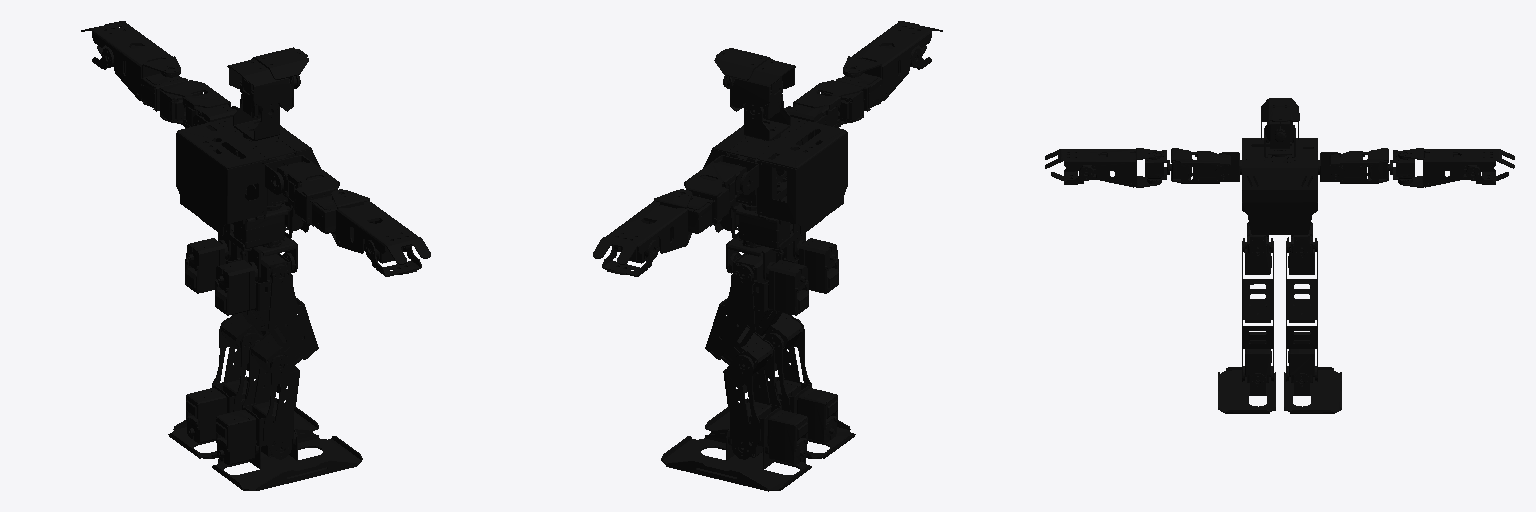
--- Render facts (derived) ---
Views: 3 orthographic renders of the robot side by side, from view 1: azimuth 30°, elevation 25°; view 2: azimuth 150°, elevation 25°; view 3: azimuth 270°, elevation 25°.
Robot: ainex — 28 links, 27 joints (24 revolute, 3 fixed); root link base_link; default pose: every joint at zero.
Links seen in each view (by area): view 1: body_link, r_ank_roll_link, r_hip_pitch_link, r_el_yaw_link, head_tilt_link, r_knee_link, l_el_yaw_link, r_hip_roll_link, r_ank_pitch_link, l_sho_roll_link, l_ank_pitch_link, r_sho_roll_link (+10 smaller); view 2: body_link, l_ank_roll_link, l_hip_pitch_link, l_el_yaw_link, head_tilt_link, l_knee_link, r_el_yaw_link, l_hip_roll_link, l_ank_pitch_link, r_sho_roll_link, r_ank_pitch_link, l_sho_roll_link (+10 smaller); view 3: body_link, r_el_yaw_link, l_el_yaw_link, r_ank_roll_link, l_ank_roll_link, l_sho_roll_link, r_sho_roll_link, head_tilt_link, r_hip_pitch_link, l_hip_pitch_link, l_ank_pitch_link, r_ank_pitch_link (+8 smaller).
Boxes of the visible links, <box> form: body_link: <box>176,117,320,251</box>; r_ank_roll_link: <box>212,428,362,490</box>; r_hip_pitch_link: <box>247,264,318,373</box>; r_el_yaw_link: <box>331,189,430,264</box>; head_tilt_link: <box>227,47,308,118</box>; r_knee_link: <box>242,340,299,459</box>; l_el_yaw_link: <box>81,21,180,106</box>; r_hip_roll_link: <box>215,253,292,315</box>; r_ank_pitch_link: <box>216,398,293,464</box>; l_sho_roll_link: <box>160,80,235,127</box>; l_ank_pitch_link: <box>186,376,248,443</box>; r_sho_roll_link: <box>277,161,339,223</box>; body_link: <box>703,117,847,251</box>; l_ank_roll_link: <box>661,428,811,491</box>; l_hip_pitch_link: <box>705,264,776,373</box>; l_el_yaw_link: <box>593,189,692,264</box>; head_tilt_link: <box>714,48,795,118</box>; l_knee_link: <box>723,340,781,459</box>; r_el_yaw_link: <box>843,21,942,106</box>; l_hip_roll_link: <box>731,253,808,315</box>; l_ank_pitch_link: <box>730,398,807,465</box>; r_sho_roll_link: <box>788,80,863,127</box>; r_ank_pitch_link: <box>775,377,837,443</box>; l_sho_roll_link: <box>684,161,746,223</box>; body_link: <box>1242,138,1317,234</box>; r_el_yaw_link: <box>1045,148,1161,187</box>; l_el_yaw_link: <box>1398,148,1514,187</box>; r_ank_roll_link: <box>1218,367,1275,413</box>; l_ank_roll_link: <box>1284,367,1341,413</box>; l_sho_roll_link: <box>1329,148,1388,183</box>; r_sho_roll_link: <box>1171,148,1230,183</box>; head_tilt_link: <box>1261,98,1299,148</box>; r_hip_pitch_link: <box>1242,238,1273,322</box>; l_hip_pitch_link: <box>1286,237,1317,322</box>; l_ank_pitch_link: <box>1288,332,1314,382</box>; r_ank_pitch_link: <box>1245,332,1271,382</box>.
Bounding box of the posed robot: 0.1394 × 0.6195 × 0.4144 m (x, y, z).
Meshes: 25 distinct files referenced, 25 mesh visuals loaded (25 binary STL).

URDF robot description (ainex):
<?xml version="1.0" ?>
<!-- =================================================================================== -->
<!-- |    This document was autogenerated by xacro from src/ainex_simulations/ainex_description/urdf/ainex.urdf.xacro | -->
<!-- |    EDITING THIS FILE BY HAND IS NOT RECOMMENDED                                 | -->
<!-- =================================================================================== -->
<robot name="ainex">
  <material name="black">
    <color rgba="0.1 0.1 0.1 1.0"/>
  </material>
  <material name="blue">
    <color rgba="0.0 0.0 0.8 1.0"/>
  </material>
  <material name="green">
    <color rgba="0.4 0.9 0.4 1.0"/>
  </material>
  <material name="gray">
    <color rgba="0.7 0.7 0.7 1.0"/>
  </material>
  <material name="darkgray">
    <color rgba="0.3 0.3 0.3 1.0"/>
  </material>
  <material name="red">
    <color rgba="0.8 0.0 0.0 1.0"/>
  </material>
  <material name="white">
    <color rgba="1.0 1.0 1.0 1.0"/>
  </material>
  <material name="yellow">
    <color rgba="0.8 0.8 0.0 1.0"/>
  </material>
  <transmission name="l_hip_roll_tran">
    <type>transmission_interface/SimpleTransmission</type>
    <joint name="l_hip_roll">
      <hardwareInterface>hardware_interface/EffortJointInterface</hardwareInterface>
    </joint>
    <actuator name="l_hip_roll_motor">
      <hardwareInterface>hardware_interface/EffortJointInterface</hardwareInterface>
      <mechanicalReduction>1</mechanicalReduction>
    </actuator>
  </transmission>
  <transmission name="l_hip_pitch_tran">
    <type>transmission_interface/SimpleTransmission</type>
    <joint name="l_hip_pitch">
      <hardwareInterface>hardware_interface/EffortJointInterface</hardwareInterface>
    </joint>
    <actuator name="l_hip_pitch_motor">
      <hardwareInterface>hardware_interface/EffortJointInterface</hardwareInterface>
      <mechanicalReduction>1</mechanicalReduction>
    </actuator>
  </transmission>
  <transmission name="r_hip_roll_tran">
    <type>transmission_interface/SimpleTransmission</type>
    <joint name="r_hip_roll">
      <hardwareInterface>hardware_interface/EffortJointInterface</hardwareInterface>
    </joint>
    <actuator name="r_hip_roll_motor">
      <hardwareInterface>hardware_interface/EffortJointInterface</hardwareInterface>
      <mechanicalReduction>1</mechanicalReduction>
    </actuator>
  </transmission>
  <transmission name="r_hip_pitch_tran">
    <type>transmission_interface/SimpleTransmission</type>
    <joint name="r_hip_pitch">
      <hardwareInterface>hardware_interface/EffortJointInterface</hardwareInterface>
    </joint>
    <actuator name="r_hip_pitch_motor">
      <hardwareInterface>hardware_interface/EffortJointInterface</hardwareInterface>
      <mechanicalReduction>1</mechanicalReduction>
    </actuator>
  </transmission>
  <transmission name="l_hip_yaw_tran">
    <type>transmission_interface/SimpleTransmission</type>
    <joint name="l_hip_yaw">
      <hardwareInterface>hardware_interface/EffortJointInterface</hardwareInterface>
    </joint>
    <actuator name="l_hip_yaw_motor">
      <hardwareInterface>hardware_interface/EffortJointInterface</hardwareInterface>
      <mechanicalReduction>1</mechanicalReduction>
    </actuator>
  </transmission>
  <transmission name="r_hip_yaw_tran">
    <type>transmission_interface/SimpleTransmission</type>
    <joint name="r_hip_yaw">
      <hardwareInterface>hardware_interface/EffortJointInterface</hardwareInterface>
    </joint>
    <actuator name="r_hip_yaw_motor">
      <hardwareInterface>hardware_interface/EffortJointInterface</hardwareInterface>
      <mechanicalReduction>1</mechanicalReduction>
    </actuator>
  </transmission>
  <transmission name="l_knee_tran">
    <type>transmission_interface/SimpleTransmission</type>
    <joint name="l_knee">
      <hardwareInterface>hardware_interface/EffortJointInterface</hardwareInterface>
    </joint>
    <actuator name="l_knee_motor">
      <hardwareInterface>hardware_interface/EffortJointInterface</hardwareInterface>
      <mechanicalReduction>1</mechanicalReduction>
    </actuator>
  </transmission>
  <transmission name="l_ank_pitch_tran">
    <type>transmission_interface/SimpleTransmission</type>
    <joint name="l_ank_pitch">
      <hardwareInterface>hardware_interface/EffortJointInterface</hardwareInterface>
    </joint>
    <actuator name="l_ank_pitch_motor">
      <hardwareInterface>hardware_interface/EffortJointInterface</hardwareInterface>
      <mechanicalReduction>1</mechanicalReduction>
    </actuator>
  </transmission>
  <transmission name="l_ank_roll_tran">
    <type>transmission_interface/SimpleTransmission</type>
    <joint name="l_ank_roll">
      <hardwareInterface>hardware_interface/EffortJointInterface</hardwareInterface>
    </joint>
    <actuator name="l_ank_roll_motor">
      <hardwareInterface>hardware_interface/EffortJointInterface</hardwareInterface>
      <mechanicalReduction>1</mechanicalReduction>
    </actuator>
  </transmission>
  <transmission name="r_knee_tran">
    <type>transmission_interface/SimpleTransmission</type>
    <joint name="r_knee">
      <hardwareInterface>hardware_interface/EffortJointInterface</hardwareInterface>
    </joint>
    <actuator name="r_knee_motor">
      <hardwareInterface>hardware_interface/EffortJointInterface</hardwareInterface>
      <mechanicalReduction>1</mechanicalReduction>
    </actuator>
  </transmission>
  <transmission name="r_ank_pitch_tran">
    <type>transmission_interface/SimpleTransmission</type>
    <joint name="r_ank_pitch">
      <hardwareInterface>hardware_interface/EffortJointInterface</hardwareInterface>
    </joint>
    <actuator name="r_ank_pitch_motor">
      <hardwareInterface>hardware_interface/EffortJointInterface</hardwareInterface>
      <mechanicalReduction>1</mechanicalReduction>
    </actuator>
  </transmission>
  <transmission name="r_ank_roll_tran">
    <type>transmission_interface/SimpleTransmission</type>
    <joint name="r_ank_roll">
      <hardwareInterface>hardware_interface/EffortJointInterface</hardwareInterface>
    </joint>
    <actuator name="r_ank_roll_motor">
      <hardwareInterface>hardware_interface/EffortJointInterface</hardwareInterface>
      <mechanicalReduction>1</mechanicalReduction>
    </actuator>
  </transmission>
  <transmission name="l_sho_roll_tran">
    <type>transmission_interface/SimpleTransmission</type>
    <joint name="l_sho_roll">
      <hardwareInterface>hardware_interface/EffortJointInterface</hardwareInterface>
    </joint>
    <actuator name="l_sho_roll_motor">
      <hardwareInterface>hardware_interface/EffortJointInterface</hardwareInterface>
      <mechanicalReduction>1</mechanicalReduction>
    </actuator>
  </transmission>
  <transmission name="l_sho_pitch_tran">
    <type>transmission_interface/SimpleTransmission</type>
    <joint name="l_sho_pitch">
      <hardwareInterface>hardware_interface/EffortJointInterface</hardwareInterface>
    </joint>
    <actuator name="l_sho_pitch_motor">
      <hardwareInterface>hardware_interface/EffortJointInterface</hardwareInterface>
      <mechanicalReduction>1</mechanicalReduction>
    </actuator>
  </transmission>
  <transmission name="r_sho_roll_tran">
    <type>transmission_interface/SimpleTransmission</type>
    <joint name="r_sho_roll">
      <hardwareInterface>hardware_interface/EffortJointInterface</hardwareInterface>
    </joint>
    <actuator name="r_sho_roll_motor">
      <hardwareInterface>hardware_interface/EffortJointInterface</hardwareInterface>
      <mechanicalReduction>1</mechanicalReduction>
    </actuator>
  </transmission>
  <transmission name="r_sho_pitch_tran">
    <type>transmission_interface/SimpleTransmission</type>
    <joint name="r_sho_pitch">
      <hardwareInterface>hardware_interface/EffortJointInterface</hardwareInterface>
    </joint>
    <actuator name="r_sho_pitch_motor">
      <hardwareInterface>hardware_interface/EffortJointInterface</hardwareInterface>
      <mechanicalReduction>1</mechanicalReduction>
    </actuator>
  </transmission>
  <transmission name="l_el_yaw_tran">
    <type>transmission_interface/SimpleTransmission</type>
    <joint name="l_el_yaw">
      <hardwareInterface>hardware_interface/EffortJointInterface</hardwareInterface>
    </joint>
    <actuator name="l_el_yaw_motor">
      <hardwareInterface>hardware_interface/EffortJointInterface</hardwareInterface>
      <mechanicalReduction>1</mechanicalReduction>
    </actuator>
  </transmission>
  <transmission name="r_el_yaw_tran">
    <type>transmission_interface/SimpleTransmission</type>
    <joint name="r_el_yaw">
      <hardwareInterface>hardware_interface/EffortJointInterface</hardwareInterface>
    </joint>
    <actuator name="r_el_yaw_motor">
      <hardwareInterface>hardware_interface/EffortJointInterface</hardwareInterface>
      <mechanicalReduction>1</mechanicalReduction>
    </actuator>
  </transmission>
  <transmission name="l_el_pitch_tran">
    <type>transmission_interface/SimpleTransmission</type>
    <joint name="l_el_pitch">
      <hardwareInterface>hardware_interface/EffortJointInterface</hardwareInterface>
    </joint>
    <actuator name="l_el_pitch_motor">
      <hardwareInterface>hardware_interface/EffortJointInterface</hardwareInterface>
      <mechanicalReduction>1</mechanicalReduction>
    </actuator>
  </transmission>
  <transmission name="l_gripper_tran">
    <type>transmission_interface/SimpleTransmission</type>
    <joint name="l_gripper">
      <hardwareInterface>hardware_interface/EffortJointInterface</hardwareInterface>
    </joint>
    <actuator name="l_gripper_motor">
      <hardwareInterface>hardware_interface/EffortJointInterface</hardwareInterface>
      <mechanicalReduction>1</mechanicalReduction>
    </actuator>
  </transmission>
  <transmission name="r_el_pitch_tran">
    <type>transmission_interface/SimpleTransmission</type>
    <joint name="r_el_pitch">
      <hardwareInterface>hardware_interface/EffortJointInterface</hardwareInterface>
    </joint>
    <actuator name="r_el_pitch_motor">
      <hardwareInterface>hardware_interface/EffortJointInterface</hardwareInterface>
      <mechanicalReduction>1</mechanicalReduction>
    </actuator>
  </transmission>
  <transmission name="r_gripper_tran">
    <type>transmission_interface/SimpleTransmission</type>
    <joint name="r_gripper">
      <hardwareInterface>hardware_interface/EffortJointInterface</hardwareInterface>
    </joint>
    <actuator name="r_gripper_motor">
      <hardwareInterface>hardware_interface/EffortJointInterface</hardwareInterface>
      <mechanicalReduction>1</mechanicalReduction>
    </actuator>
  </transmission>
  <transmission name="head_pan_tran">
    <type>transmission_interface/SimpleTransmission</type>
    <joint name="head_pan">
      <hardwareInterface>hardware_interface/EffortJointInterface</hardwareInterface>
    </joint>
    <actuator name="head_pan_motor">
      <hardwareInterface>hardware_interface/EffortJointInterface</hardwareInterface>
      <mechanicalReduction>1</mechanicalReduction>
    </actuator>
  </transmission>
  <transmission name="head_tilt_tran">
    <type>transmission_interface/SimpleTransmission</type>
    <joint name="head_tilt">
      <hardwareInterface>hardware_interface/EffortJointInterface</hardwareInterface>
    </joint>
    <actuator name="head_tilt_motor">
      <hardwareInterface>hardware_interface/EffortJointInterface</hardwareInterface>
      <mechanicalReduction>1</mechanicalReduction>
    </actuator>
  </transmission>
  <link name="base_link"/>
  <joint name="base_link_to_body" type="fixed">
    <parent link="base_link"/>
    <child link="body_link"/>
  </joint>
  <link name="body_link">
    <inertial>
      <origin rpy="0 0 0" xyz="0.00394313682998006 -7.92910841109997E-05 0.0504544952747596"/>
      <mass value="0.743"/>
      <inertia ixx="0.00121619" ixy="0.00000248" ixz="-0.00005348" iyy="0.00104402" iyz="-0.00000200" izz="0.00108564"/>
    </inertial>
    <visual>
      <origin rpy="0 0 0" xyz="0 0 0"/>
      <geometry>
        <mesh filename="ainex_description/meshes/body_link.STL"/>
      </geometry>
      <material name="black"/>
    </visual>
    <collision>
      <origin rpy="0 0 0" xyz="0 0 0"/>
      <geometry>
        <mesh filename="ainex_description/meshes/body_link.STL"/>
      </geometry>
    </collision>
  </link>
  <link name="r_hip_yaw_link">
    <inertial>
      <origin rpy="0 0 0" xyz="-3.08089321559763E-05 0.0012572746209485 -0.00137106654438882"/>
      <mass value="0.032"/>
      <inertia ixx="0.00001756" ixy="-0.00000028" ixz="-0.00000033" iyy="0.00002270" iyz="0.00000092" izz="0.00000905"/>
    </inertial>
    <visual>
      <origin rpy="0 0 0" xyz="0 0 0"/>
      <geometry>
        <mesh filename="ainex_description/meshes/r_hip_yaw_link.STL"/>
      </geometry>
      <material name="black"/>
    </visual>
    <collision>
      <origin rpy="0 0 0" xyz="0 0 0"/>
      <geometry>
        <mesh filename="ainex_description/meshes/r_hip_yaw_link.STL"/>
      </geometry>
    </collision>
  </link>
  <joint name="r_hip_yaw" type="revolute">
    <origin rpy="0 0 0" xyz="0 -0.029 0"/>
    <parent link="body_link"/>
    <child link="r_hip_yaw_link"/>
    <axis xyz="0 0 -1"/>
    <limit effort="6" lower="-2.09" upper="2.09" velocity="100"/>
    <dynamics damping="0.02" friction="0.0"/>
  </joint>
  <link name="r_hip_roll_link">
    <inertial>
      <origin rpy="0 0 0" xyz="0.00136240189123019 -0.000566876191787073 -0.0134186815024998"/>
      <mass value="0.120"/>
      <inertia ixx="0.00002918" ixy="-0.00000090" ixz="-0.00000045" iyy="0.00007310" iyz="0.00000000" izz="0.00006050"/>
    </inertial>
    <visual>
      <origin rpy="0 0 0" xyz="0 0 0"/>
      <geometry>
        <mesh filename="ainex_description/meshes/r_hip_roll_link.STL"/>
      </geometry>
      <material name="black"/>
    </visual>
    <collision>
      <origin rpy="0 0 0" xyz="0 0 0"/>
      <geometry>
        <mesh filename="ainex_description/meshes/r_hip_roll_link.STL"/>
      </geometry>
    </collision>
  </link>
  <joint name="r_hip_roll" type="revolute">
    <origin rpy="0 0 0" xyz="-0.01955 0 -0.0255"/>
    <parent link="r_hip_yaw_link"/>
    <child link="r_hip_roll_link"/>
    <axis xyz="-1 0 0"/>
    <limit effort="6" lower="-2.09" upper="2.09" velocity="100"/>
    <dynamics damping="0.02" friction="0.0"/>
  </joint>
  <link name="r_hip_pitch_link">
    <inertial>
      <origin rpy="0 0 0" xyz="0.0135944229510165 0.0193812364621979 -0.0727053786154678"/>
      <mass value="0.1065"/>
      <inertia ixx="0.00011009" ixy="0.00000025" ixz="-0.00000822" iyy="0.00011292" iyz="0.00000058" izz="0.00004163"/>
    </inertial>
    <visual>
      <origin rpy="0 0 0" xyz="0 0 0"/>
      <geometry>
        <mesh filename="ainex_description/meshes/r_hip_pitch_link.STL"/>
      </geometry>
      <material name="black"/>
    </visual>
    <collision>
      <origin rpy="0 0 0" xyz="0 0 0"/>
      <geometry>
        <mesh filename="ainex_description/meshes/r_hip_pitch_link.STL"/>
      </geometry>
    </collision>
  </link>
  <joint name="r_hip_pitch" type="revolute">
    <origin rpy="0 0 0" xyz="0.0190366011774447 -0.0200000000007891 0"/>
    <parent link="r_hip_roll_link"/>
    <child link="r_hip_pitch_link"/>
    <axis xyz="0 -1 0"/>
    <limit effort="6" lower="-2.09" upper="2.09" velocity="100"/>
    <dynamics damping="0.02" friction="0.0"/>
  </joint>
  <link name="r_knee_link">
    <inertial>
      <origin rpy="0 0 0" xyz="0.00334266052421815 0.0196473707822286 -0.0425048961212657"/>
      <mass value="0.045"/>
      <inertia ixx="0.00006733" ixy="0.00000005" ixz="0.00000285" iyy="0.00005500" iyz="0.00000000" izz="0.00002073"/>
    </inertial>
    <visual>
      <origin rpy="0 0 0" xyz="0 0 0"/>
      <geometry>
        <mesh filename="ainex_description/meshes/r_knee_link.STL"/>
      </geometry>
      <material name="black"/>
    </visual>
    <collision>
      <origin rpy="0 0 0" xyz="0 0 0"/>
      <geometry>
        <mesh filename="ainex_description/meshes/r_knee_link.STL"/>
      </geometry>
    </collision>
  </link>
  <joint name="r_knee" type="revolute">
    <origin rpy="0 0 0" xyz="-0.000372039419212393 4.99999999942422E-05 -0.0968862318156413"/>
    <parent link="r_hip_pitch_link"/>
    <child link="r_knee_link"/>
    <axis xyz="0 -1 0"/>
    <limit effort="6" lower="-2.09" upper="2.09" velocity="100"/>
    <dynamics damping="0.02" friction="0.0"/>
  </joint>
  <link name="r_ank_pitch_link">
    <inertial>
      <origin rpy="0 0 0" xyz="-0.0175439564530261 0.0195631980917168 0.0134182145609028"/>
      <mass value="0.120"/>
      <inertia ixx="0.00002920" ixy="-0.00000122" ixz="0.00000047" iyy="0.00007365" iyz="0.00000002" izz="0.00006107"/>
    </inertial>
    <visual>
      <origin rpy="0 0 0" xyz="0 0 0"/>
      <geometry>
        <mesh filename="ainex_description/meshes/r_ank_pitch_link.STL"/>
      </geometry>
      <material name="black"/>
    </visual>
    <collision>
      <origin rpy="0 0 0" xyz="0 0 0"/>
      <geometry>
        <mesh filename="ainex_description/meshes/r_ank_pitch_link.STL"/>
      </geometry>
    </collision>
  </link>
  <joint name="r_ank_pitch" type="revolute">
    <origin rpy="0 0 0" xyz="0.0010369887037887 0 -0.0890765640232094"/>
    <parent link="r_knee_link"/>
    <child link="r_ank_pitch_link"/>
    <axis xyz="0 1 0"/>
    <limit effort="6" lower="-2.09" upper="2.09" velocity="100"/>
    <dynamics damping="0.02" friction="0.0"/>
  </joint>
  <link name="r_ank_roll_link">
    <inertial>
      <origin rpy="0 0 0" xyz="0.0285084749683582 -0.0128728703698743 -0.0176710108439943"/>
      <mass value="0.0675"/>
      <inertia ixx="0.00004217" ixy="-0.00000108" ixz="-0.00000226" iyy="0.00009246" iyz="0.00000304" izz="0.00012567"/>
    </inertial>
    <visual>
      <origin rpy="0 0 0" xyz="0 0 0"/>
      <geometry>
        <mesh filename="ainex_description/meshes/r_ank_roll_link.STL"/>
      </geometry>
      <material name="black"/>
    </visual>
    <collision>
      <origin rpy="0 0 0" xyz="0 0 0"/>
      <geometry>
        <mesh filename="ainex_description/meshes/r_ank_roll_link.STL"/>
      </geometry>
    </collision>
  </link>
  <joint name="r_ank_roll" type="revolute">
    <origin rpy="0 0 0" xyz="-0.0190366011761311 0.0199999999998644 0"/>
    <parent link="r_ank_pitch_link"/>
    <child link="r_ank_roll_link"/>
    <axis xyz="1 0 0"/>
    <limit effort="6" lower="-2.09" upper="2.09" velocity="100"/>
    <dynamics damping="0.02" friction="0.0"/>
  </joint>
  <link name="l_hip_yaw_link">
    <inertial>
      <origin rpy="0 0 0" xyz="-3.11405684236766E-05 -0.00125722452663508 -0.00137130106826952"/>
      <mass value="0.032"/>
      <inertia ixx="0.00001756" ixy="0.000000288" ixz="-0.00000033" iyy="0.00002270" iyz="-0.00000092" izz="0.00000905"/>
    </inertial>
    <visual>
      <origin rpy="0 0 0" xyz="0 0 0"/>
      <geometry>
        <mesh filename="ainex_description/meshes/l_hip_yaw_link.STL"/>
      </geometry>
      <material name="black"/>
    </visual>
    <collision>
      <origin rpy="0 0 0" xyz="0 0 0"/>
      <geometry>
        <mesh filename="ainex_description/meshes/l_hip_yaw_link.STL"/>
      </geometry>
    </collision>
  </link>
  <joint name="l_hip_yaw" type="revolute">
    <origin rpy="0 0 0" xyz="0 0.029 0"/>
    <parent link="body_link"/>
    <child link="l_hip_yaw_link"/>
    <axis xyz="0 0 -1"/>
    <limit effort="6" lower="-2.09" upper="2.09" velocity="100"/>
    <dynamics damping="0.02" friction="0.0"/>
  </joint>
  <link name="l_hip_roll_link">
    <inertial>
      <origin rpy="0 0 0" xyz="0.00136238689917259 0.000566861270169111 -0.0134186827123954"/>
      <mass value="0.120"/>
      <inertia ixx="0.00002918" ixy="0.00000090" ixz="-0.00000045" iyy="0.00007310" iyz="0.00000000" izz="0.00006050"/>
    </inertial>
    <visual>
      <origin rpy="0 0 0" xyz="0 0 0"/>
      <geometry>
        <mesh filename="ainex_description/meshes/l_hip_roll_link.STL"/>
      </geometry>
      <material name="black"/>
    </visual>
    <collision>
      <origin rpy="0 0 0" xyz="0 0 0"/>
      <geometry>
        <mesh filename="ainex_description/meshes/l_hip_roll_link.STL"/>
      </geometry>
    </collision>
  </link>
  <joint name="l_hip_roll" type="revolute">
    <origin rpy="0 0 0" xyz="-0.01955 0 -0.0255"/>
    <parent link="l_hip_yaw_link"/>
    <child link="l_hip_roll_link"/>
    <axis xyz="-1 0 0"/>
    <limit effort="6" lower="-2.09" upper="2.09" velocity="100"/>
    <dynamics damping="0.02" friction="0.0"/>
  </joint>
  <link name="l_hip_pitch_link">
    <inertial>
      <origin rpy="0 0 0" xyz="0.0135944002953011 -0.0193811742069665 -0.072705130428188"/>
      <mass value="0.1065"/>
      <inertia ixx="0.00011009" ixy="-0.00000025" ixz="-0.00000822" iyy="0.00011292" iyz="-0.00000058" izz="0.00004163"/>
    </inertial>
    <visual>
      <origin rpy="0 0 0" xyz="0 0 0"/>
      <geometry>
        <mesh filename="ainex_description/meshes/l_hip_pitch_link.STL"/>
      </geometry>
      <material name="black"/>
    </visual>
    <collision>
      <origin rpy="0 0 0" xyz="0 0 0"/>
      <geometry>
        <mesh filename="ainex_description/meshes/l_hip_pitch_link.STL"/>
      </geometry>
    </collision>
  </link>
  <joint name="l_hip_pitch" type="revolute">
    <origin rpy="0 0 0" xyz="0.019037 0.02 0"/>
    <parent link="l_hip_roll_link"/>
    <child link="l_hip_pitch_link"/>
    <axis xyz="0 1 0"/>
    <limit effort="6" lower="-2.09" upper="2.09" velocity="100"/>
    <dynamics damping="0.02" friction="0.0"/>
  </joint>
  <link name="l_knee_link">
    <inertial>
      <origin rpy="0 0 0" xyz="0.00334255585606658 -0.0196465200672246 -0.0425052792592038"/>
      <mass value="0.045"/>
      <inertia ixx="0.00006733" ixy="-0.00000004" ixz="0.00000285" iyy="0.00005500" iyz="0.00000000" izz="0.00002073"/>
    </inertial>
    <visual>
      <origin rpy="0 0 0" xyz="0 0 0"/>
      <geometry>
        <mesh filename="ainex_description/meshes/l_knee_link.STL"/>
      </geometry>
      <material name="black"/>
    </visual>
    <collision>
      <origin rpy="0 0 0" xyz="0 0 0"/>
      <geometry>
        <mesh filename="ainex_description/meshes/l_knee_link.STL"/>
      </geometry>
    </collision>
  </link>
  <joint name="l_knee" type="revolute">
    <origin rpy="0 0 0" xyz="-0.00037204 -5E-05 -0.096886"/>
    <parent link="l_hip_pitch_link"/>
    <child link="l_knee_link"/>
    <axis xyz="0 1 0"/>
    <limit effort="6" lower="-2.09" upper="2.09" velocity="100"/>
    <dynamics damping="0.02" friction="0.0"/>
  </joint>
  <link name="l_ank_pitch_link">
    <inertial>
      <origin rpy="0 0 0" xyz="-0.0175439606215995 -0.0195632128037413 0.0134182214254433"/>
      <mass value="0.120"/>
      <inertia ixx="0.00002920" ixy="0.00000122" ixz="0.00000047" iyy="0.00007365" iyz="-0.00000002" izz="0.00006107"/>
    </inertial>
    <visual>
      <origin rpy="0 0 0" xyz="0 0 0"/>
      <geometry>
        <mesh filename="ainex_description/meshes/l_ank_pitch_link.STL"/>
      </geometry>
      <material name="black"/>
    </visual>
    <collision>
      <origin rpy="0 0 0" xyz="0 0 0"/>
      <geometry>
        <mesh filename="ainex_description/meshes/l_ank_pitch_link.STL"/>
      </geometry>
    </collision>
  </link>
  <joint name="l_ank_pitch" type="revolute">
    <origin rpy="0 0 0" xyz="0.001037 0 -0.089077"/>
    <parent link="l_knee_link"/>
    <child link="l_ank_pitch_link"/>
    <axis xyz="0 -1 0"/>
    <limit effort="6" lower="-2.09" upper="2.09" velocity="100"/>
    <dynamics damping="0.02" friction="0.0"/>
  </joint>
  <link name="l_ank_roll_link">
    <inertial>
      <origin rpy="0 0 0" xyz="0.028508 0.012873 -0.017671"/>
      <mass value="0.0675"/>
      <inertia ixx="0.00004217" ixy="0.00000108" ixz="-0.00000226" iyy="0.00009246" iyz="-0.00000304" izz="0.00012567"/>
    </inertial>
    <visual>
      <origin rpy="0 0 0" xyz="0 0 0"/>
      <geometry>
        <mesh filename="ainex_description/meshes/l_ank_roll_link.STL"/>
      </geometry>
      <material name="black"/>
    </visual>
    <collision>
      <origin rpy="0 0 0" xyz="0 0 0"/>
      <geometry>
        <mesh filename="ainex_description/meshes/l_ank_roll_link.STL"/>
      </geometry>
    </collision>
  </link>
  <joint name="l_ank_roll" type="revolute">
    <origin rpy="0 0 0" xyz="-0.019037 -0.02 0"/>
    <parent link="l_ank_pitch_link"/>
    <child link="l_ank_roll_link"/>
    <axis xyz="1 0 0"/>
    <limit effort="6" lower="-2.09" upper="2.09" velocity="100"/>
    <dynamics damping="0.02" friction="0.0"/>
  </joint>
  <link name="head_pan_link">
    <inertial>
      <origin rpy="0 0 0" xyz="0.00549413614691534 0.000156599066327573 0.0141339256886725"/>
      <mass value="0.00767349443930606"/>
      <inertia ixx="2.11767311265303E-06" ixy="1.34870612877854E-11" ixz="-1.4437789878239E-07" iyy="9.86662751533161E-07" iyz="4.73071759311514E-11" izz="1.8352106338847E-06"/>
    </inertial>
    <visual>
      <origin rpy="0 0 0" xyz="0 0 0"/>
      <geometry>
        <mesh filename="ainex_description/meshes/head_pan_link.STL"/>
      </geometry>
      <material name="black"/>
    </visual>
    <collision>
      <origin rpy="0 0 0" xyz="0 0 0"/>
      <geometry>
        <mesh filename="ainex_description/meshes/head_pan_link.STL"/>
      </geometry>
    </collision>
  </link>
  <joint name="head_pan" type="revolute">
    <origin rpy="0 0 0" xyz="-0.00410029363273529 0 0.107800000000251"/>
    <parent link="body_link"/>
    <child link="head_pan_link"/>
    <axis xyz="0 0 -1"/>
    <limit effort="6" lower="-2.09" upper="2.09" velocity="100"/>
    <dynamics damping="0.02" friction="0.0"/>
  </joint>
  <link name="head_tilt_link">
    <inertial>
      <origin rpy="0 0 0" xyz="0.0113381465890742 0.0189172536781822 0.0221227280632388"/>
      <mass value="0.026224916296902"/>
      <inertia ixx="6.19728230918923E-06" ixy="5.21591430621001E-09" ixz="8.03962376862465E-07" iyy="6.32347395622384E-06" iyz="-2.0606717121074E-08" izz="6.90141230136629E-06"/>
    </inertial>
    <visual>
      <origin rpy="0 0 0" xyz="0 0 0"/>
      <geometry>
        <mesh filename="ainex_description/meshes/head_tilt_link.STL"/>
      </geometry>
      <material name="black"/>
    </visual>
    <collision>
      <origin rpy="0 0 0" xyz="0 0 0"/>
      <geometry>
        <mesh filename="ainex_description/meshes/head_tilt_link.STL"/>
      </geometry>
    </collision>
  </link>
  <joint name="head_tilt" type="revolute">
    <origin rpy="0 0 0" xyz="0.00904594549071587 -0.0185733521405788 0.0281579437975029"/>
    <parent link="head_pan_link"/>
    <child link="head_tilt_link"/>
    <axis xyz="0 -1 0"/>
    <limit effort="6" lower="-2.09" upper="2.09" velocity="100"/>
    <dynamics damping="0.02" friction="0.0"/>
  </joint>
  <link name="camera_link">
  </link>
  <joint name="camera" type="fixed">
    <origin rpy="0 0 0" xyz="0.0430140359009206 0 0.152356120938238"/>
    <parent link="body_link"/>
    <child link="camera_link"/>
    <axis xyz="0 0 0"/>
  </joint>
  <link name="imu_link">
  </link>
  <joint name="imu" type="fixed">
    <origin rpy="1.5707963267948966 0 -1.5707963267948966" xyz="-0.0459897867959335 -0.0100999999918824 0.0702999210083745"/>
    <parent link="body_link"/>
    <child link="imu_link"/>
    <axis xyz="0 0 0"/>
  </joint>
  <link name="r_sho_pitch_link">
    <inertial>
      <origin rpy="0 0 0" xyz="0.000375793263921053 -0.0113306723078783 2.09985517302114E-06"/>
      <mass value="0.0128"/>
      <inertia ixx="0.00000205" ixy="-0.00000005" ixz="0.00000000" iyy="0.00000390" iyz="0.00000000" izz="0.00000503"/>
    </inertial>
    <visual>
      <origin rpy="0 0 0" xyz="0 0 0"/>
      <geometry>
        <mesh filename="ainex_description/meshes/r_sho_pitch_link.STL"/>
      </geometry>
      <material name="black"/>
    </visual>
    <collision>
      <origin rpy="0 0 0" xyz="0 0 0"/>
      <geometry>
        <mesh filename="ainex_description/meshes/r_sho_pitch_link.STL"/>
      </geometry>
    </collision>
  </link>
  <joint name="r_sho_pitch" type="revolute">
    <origin rpy="0 0 0" xyz="-5.46273713767254E-05 -0.0524909514103703 0.0874480463620076"/>
    <parent link="body_link"/>
    <child link="r_sho_pitch_link"/>
    <axis xyz="0 -1 0"/>
    <limit effort="6" lower="-2.09" upper="2.09" velocity="100"/>
    <dynamics damping="0.0" friction="0.2"/>
  </joint>
  <link name="r_sho_roll_link">
    <inertial>
      <origin rpy="0 0 0" xyz="-0.0205037633090526 -0.0278387909859685 -6.10732337563702E-05"/>
      <mass value="0.121"/>
      <inertia ixx="0.00007300" ixy="0.00000868" ixz="-0.00000005" iyy="0.00002527" iyz="-0.00000018" izz="0.00007539"/>
    </inertial>
    <visual>
      <origin rpy="0 0 0" xyz="0 0 0"/>
      <geometry>
        <mesh filename="ainex_description/meshes/r_sho_roll_link.STL"/>
      </geometry>
      <material name="black"/>
    </visual>
    <collision>
      <origin rpy="0 0 0" xyz="0 0 0"/>
      <geometry>
        <mesh filename="ainex_description/meshes/r_sho_roll_link.STL"/>
      </geometry>
    </collision>
  </link>
  <joint name="r_sho_roll" type="revolute">
    <origin rpy="0 0 0" xyz="0.020003499818653 -0.021505961295104 0"/>
    <parent link="r_sho_pitch_link"/>
    <child link="r_sho_roll_link"/>
    <axis xyz="1 0 0"/>
    <limit effort="6" lower="-2.09" upper="2.09" velocity="100"/>
    <dynamics damping="0.0" friction="0.2"/>
  </joint>
  <link name="r_el_pitch_link">
    <inertial>
      <origin rpy="0 0 0" xyz="-0.00697552928269531 -0.0128963887344756 0.000205170639759389"/>
      <mass value="0.045"/>
      <inertia ixx="0.00000797" ixy="0.00000065" ixz="-0.00000015" iyy="0.00000830" iyz="-0.00000005" izz="0.00001053"/>
    </inertial>
    <visual>
      <origin rpy="0 0 0" xyz="0 0 0"/>
      <geometry>
        <mesh filename="ainex_description/meshes/r_el_pitch_link.STL"/>
      </geometry>
      <material name="black"/>
    </visual>
    <collision>
      <origin rpy="0 0 0" xyz="0 0 0"/>
      <geometry>
        <mesh filename="ainex_description/meshes/r_el_pitch_link.STL"/>
      </geometry>
    </collision>
  </link>
  <joint name="r_el_pitch" type="revolute">
    <origin rpy="0 0 0" xyz="-0.0200034998200733 -0.0741099367526448 0"/>
    <parent link="r_sho_roll_link"/>
    <child link="r_el_pitch_link"/>
    <axis xyz="0 -1 0"/>
    <limit effort="6" lower="-2.09" upper="2.09" velocity="100"/>
    <dynamics damping="0.0" friction="0.2"/>
  </joint>
  <link name="r_el_yaw_link">
    <inertial>
      <origin rpy="0 0 0" xyz="-0.000228558886795894 -0.0572724286301637 -0.0138716339425995"/>
      <mass value="0.102"/>
      <inertia ixx="0.00014320" ixy="0.00000030" ixz="-0.00000003" iyy="0.00003101" iyz="-0.00001329" izz="0.00014052"/>
    </inertial>
    <visual>
      <origin rpy="0 0 0" xyz="0 0 0"/>
      <geometry>
        <mesh filename="ainex_description/meshes/r_el_yaw_link.STL"/>
      </geometry>
      <material name="black"/>
    </visual>
    <collision>
      <origin rpy="0 0 0" xyz="0 0 0"/>
      <geometry>
        <mesh filename="ainex_description/meshes/r_el_yaw_link.STL"/>
      </geometry>
    </collision>
  </link>
  <joint name="r_el_yaw" type="revolute">
    <origin rpy="0 0 0" xyz="0.000397813054181526 -0.0170183162715326 0.0190701823981362"/>
    <parent link="r_el_pitch_link"/>
    <child link="r_el_yaw_link"/>
    <axis xyz="0 0 1"/>
    <limit effort="6" lower="-2.09" upper="2.09" velocity="100"/>
    <dynamics damping="0.0" friction="0.2"/>
  </joint>
  <link name="r_gripper_link">
    <inertial>
      <origin rpy="0 0 0" xyz="-0.0193851146126543 -0.00931114583486287 -0.00543047681687003"/>
      <mass value="0.0135"/>
      <inertia ixx="0.00000328" ixy="-0.00000003" ixz="-0.00000002" iyy="0.00000451" iyz="0.00000105" izz="0.00000597"/>
    </inertial>
    <visual>
      <origin rpy="0 0 0" xyz="0 0 0"/>
      <geometry>
        <mesh filename="ainex_description/meshes/r_gripper_link.STL"/>
      </geometry>
      <material name="black"/>
    </visual>
    <collision>
      <origin rpy="0 0 0" xyz="0 0 0"/>
      <geometry>
        <mesh filename="ainex_description/meshes/r_gripper_link.STL"/>
      </geometry>
    </collision>
  </link>
  <joint name="r_gripper" type="revolute">
    <origin rpy="0 0 0" xyz="0.0198901817590543 -0.0892355537647637 -0.0190701818667893"/>
    <parent link="r_el_yaw_link"/>
    <child link="r_gripper_link"/>
    <axis xyz="1 0 0"/>
    <limit effort="6" lower="-2.09" upper="2.09" velocity="100"/>
    <dynamics damping="0.0" friction="0.2"/>
  </joint>
  <link name="l_sho_pitch_link">
    <inertial>
      <origin rpy="0 0 0" xyz="0.000375774140906853 0.0113303353403952 1.96336840385669E-06"/>
      <mass value="0.0128"/>
      <inertia ixx="0.00000205" ixy="0.00000005" ixz="0.00000000" iyy="0.00000390" iyz="0.00000000" izz="0.00000503"/>
    </inertial>
    <visual>
      <origin rpy="0 0 0" xyz="0 0 0"/>
      <geometry>
        <mesh filename="ainex_description/meshes/l_sho_pitch_link.STL"/>
      </geometry>
      <material name="black"/>
    </visual>
    <collision>
      <origin rpy="0 0 0" xyz="0 0 0"/>
      <geometry>
        <mesh filename="ainex_description/meshes/l_sho_pitch_link.STL"/>
      </geometry>
    </collision>
  </link>
  <joint name="l_sho_pitch" type="revolute">
    <origin rpy="0 0 0" xyz="-5.4627E-05 0.052491 0.087448"/>
    <parent link="body_link"/>
    <child link="l_sho_pitch_link"/>
    <axis xyz="0 -1 0"/>
    <limit effort="6" lower="-2.09" upper="2.09" velocity="100"/>
    <dynamics damping="0.0" friction="0.2"/>
  </joint>
  <link name="l_sho_roll_link">
    <inertial>
      <origin rpy="0 0 0" xyz="-0.020504 0.027838 -6.0431E-05"/>
      <mass value="0.121"/>
      <inertia ixx="0.00007300" ixy="-0.00000868" ixz="-0.00000005" iyy="0.00002527" iyz="0.00000018" izz="0.00007539"/>
    </inertial>
    <visual>
      <origin rpy="0 0 0" xyz="0 0 0"/>
      <geometry>
        <mesh filename="ainex_description/meshes/l_sho_roll_link.STL"/>
      </geometry>
      <material name="black"/>
    </visual>
    <collision>
      <origin rpy="0 0 0" xyz="0 0 0"/>
      <geometry>
        <mesh filename="ainex_description/meshes/l_sho_roll_link.STL"/>
      </geometry>
    </collision>
  </link>
  <joint name="l_sho_roll" type="revolute">
    <origin rpy="0 0 0" xyz="0.020003 0.021507 0"/>
    <parent link="l_sho_pitch_link"/>
    <child link="l_sho_roll_link"/>
    <axis xyz="1 0 0"/>
    <limit effort="6" lower="-2.09" upper="2.09" velocity="100"/>
    <dynamics damping="0.0" friction="0.2"/>
  </joint>
  <link name="l_el_pitch_link">
    <inertial>
      <origin rpy="0 0 0" xyz="-0.0069756 0.012896 0.0002073"/>
      <mass value="0.045"/>
      <inertia ixx="0.00000797" ixy="-0.00000065" ixz="-0.00000015" iyy="0.00000830" iyz="0.00000005" izz="0.00001053"/>
    </inertial>
    <visual>
      <origin rpy="0 0 0" xyz="0 0 0"/>
      <geometry>
        <mesh filename="ainex_description/meshes/l_el_pitch_link.STL"/>
      </geometry>
      <material name="black"/>
    </visual>
    <collision>
      <origin rpy="0 0 0" xyz="0 0 0"/>
      <geometry>
        <mesh filename="ainex_description/meshes/l_el_pitch_link.STL"/>
      </geometry>
    </collision>
  </link>
  <joint name="l_el_pitch" type="revolute">
    <origin rpy="0 0 0" xyz="-0.020003 0.074109 0"/>
    <parent link="l_sho_roll_link"/>
    <child link="l_el_pitch_link"/>
    <axis xyz="0 -1 0"/>
    <limit effort="6" lower="-2.09" upper="2.09" velocity="100"/>
    <dynamics damping="0.0" friction="0.2"/>
  </joint>
  <link name="l_el_yaw_link">
    <inertial>
      <origin rpy="0 0 0" xyz="-0.000225830045360985 0.0572711814760597 -0.013870295638648"/>
      <mass value="0.102"/>
      <inertia ixx="0.00014320" ixy="-0.00000030" ixz="-0.00000003" iyy="0.00003101" iyz="0.00001329" izz="0.00014052"/>
    </inertial>
    <visual>
      <origin rpy="0 0 0" xyz="0 0 0"/>
      <geometry>
        <mesh filename="ainex_description/meshes/l_el_yaw_link.STL"/>
      </geometry>
      <material name="black"/>
    </visual>
    <collision>
      <origin rpy="0 0 0" xyz="0 0 0"/>
      <geometry>
        <mesh filename="ainex_description/meshes/l_el_yaw_link.STL"/>
      </geometry>
    </collision>
  </link>
  <joint name="l_el_yaw" type="revolute">
    <origin rpy="0 0 0" xyz="0.00039506 0.017019 0.019072"/>
    <parent link="l_el_pitch_link"/>
    <child link="l_el_yaw_link"/>
    <axis xyz="0 0 1"/>
    <limit effort="6" lower="-2.09" upper="2.09" velocity="100"/>
    <dynamics damping="0.0" friction="0.2"/>
  </joint>
  <link name="l_gripper_link">
    <inertial>
      <origin rpy="0 0 0" xyz="-0.019384 0.0093137 -0.005426"/>
      <mass value="0.0135"/>
      <inertia ixx="0.00000328" ixy="0.00000003" ixz="-0.00000002" iyy="0.00000451" iyz="-0.00000105" izz="0.00000597"/>
    </inertial>
    <visual>
      <origin rpy="0 0 0" xyz="0 0 0"/>
      <geometry>
        <mesh filename="ainex_description/meshes/l_gripper_link.STL"/>
      </geometry>
      <material name="black"/>
    </visual>
    <collision>
      <origin rpy="0 0 0" xyz="0 0 0"/>
      <geometry>
        <mesh filename="ainex_description/meshes/l_gripper_link.STL"/>
      </geometry>
    </collision>
  </link>
  <joint name="l_gripper" type="revolute">
    <origin rpy="0 0 0" xyz="0.019893 0.089232 -0.019072"/>
    <parent link="l_el_yaw_link"/>
    <child link="l_gripper_link"/>
    <axis xyz="1 0 0"/>
    <limit effort="6" lower="-2.09" upper="2.09" velocity="100"/>
    <dynamics damping="0.0" friction="0.2"/>
  </joint>
</robot>
